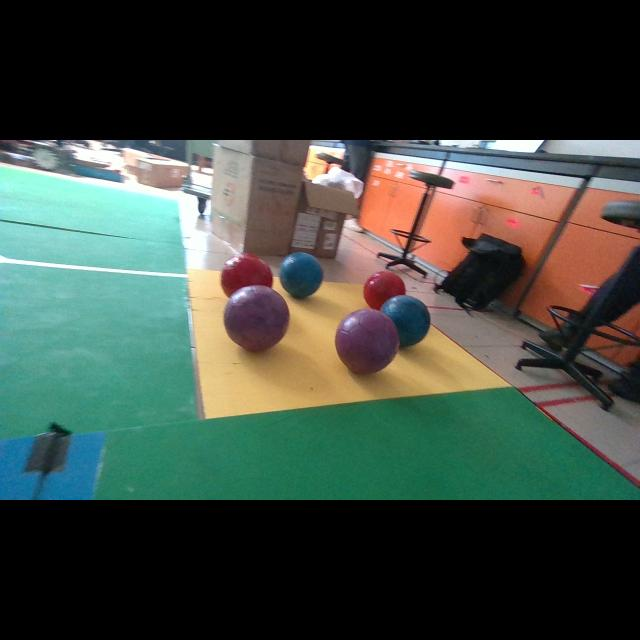B: (380, 295, 430, 346), (279, 252, 324, 299)
P: (225, 285, 290, 351), (335, 309, 400, 374)
R: (221, 254, 272, 298), (364, 271, 405, 309)
